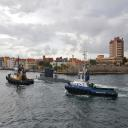submarine: (36, 68, 72, 86)
